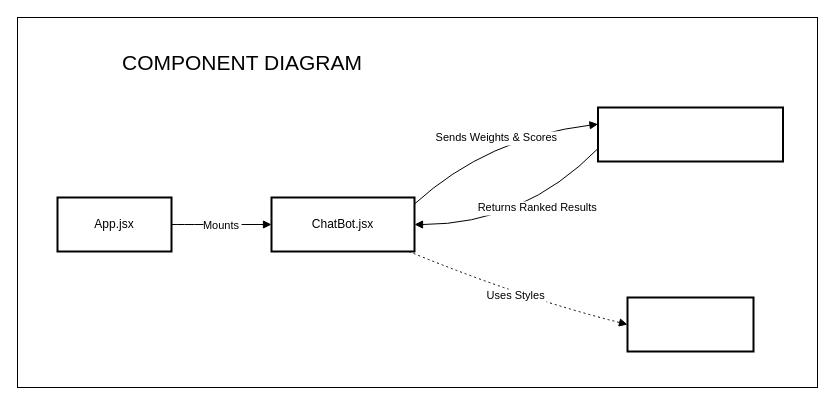
Image size: 835x405. Some labels were removed from this diagram. Here are the shapes that lost their labels. From the top down, the centre of each, then its label:
At (x=690, y=134): "DecisionEngine.js".
At (x=690, y=324): "index.css".
